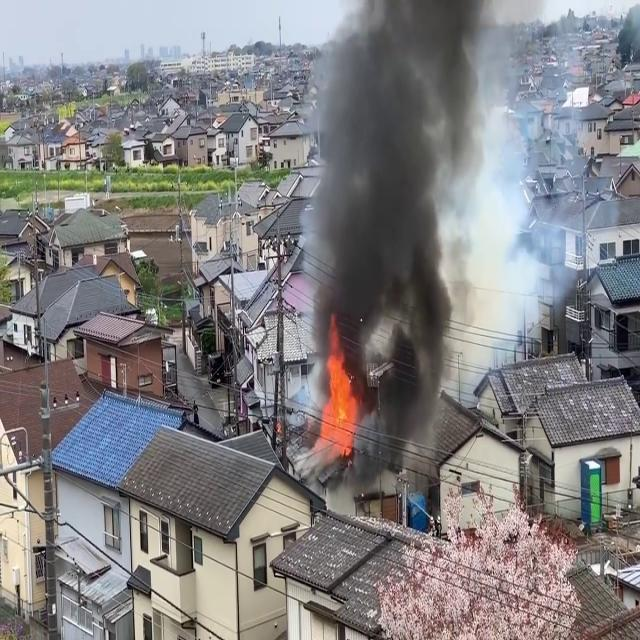Fire: (316, 334, 360, 460)
Smoke: (295, 0, 495, 401)
